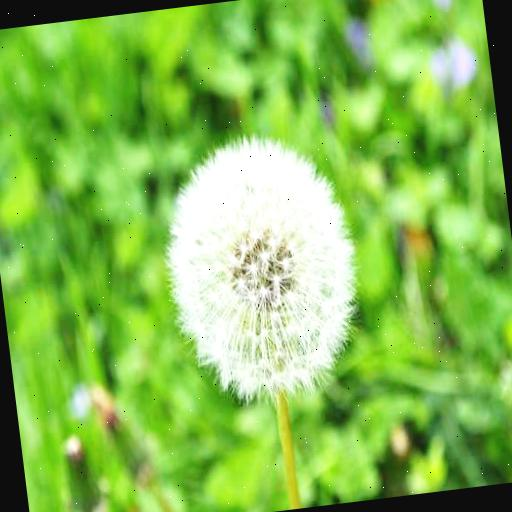dandelion: (156, 119, 368, 406)
